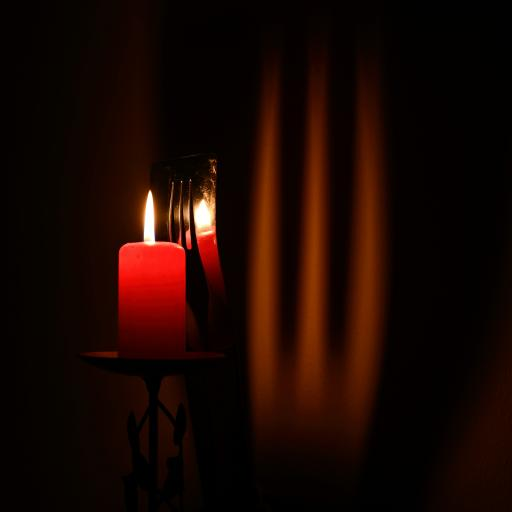candlelight: (116, 186, 189, 360), (180, 194, 226, 332), (142, 188, 156, 246), (192, 197, 212, 232)
